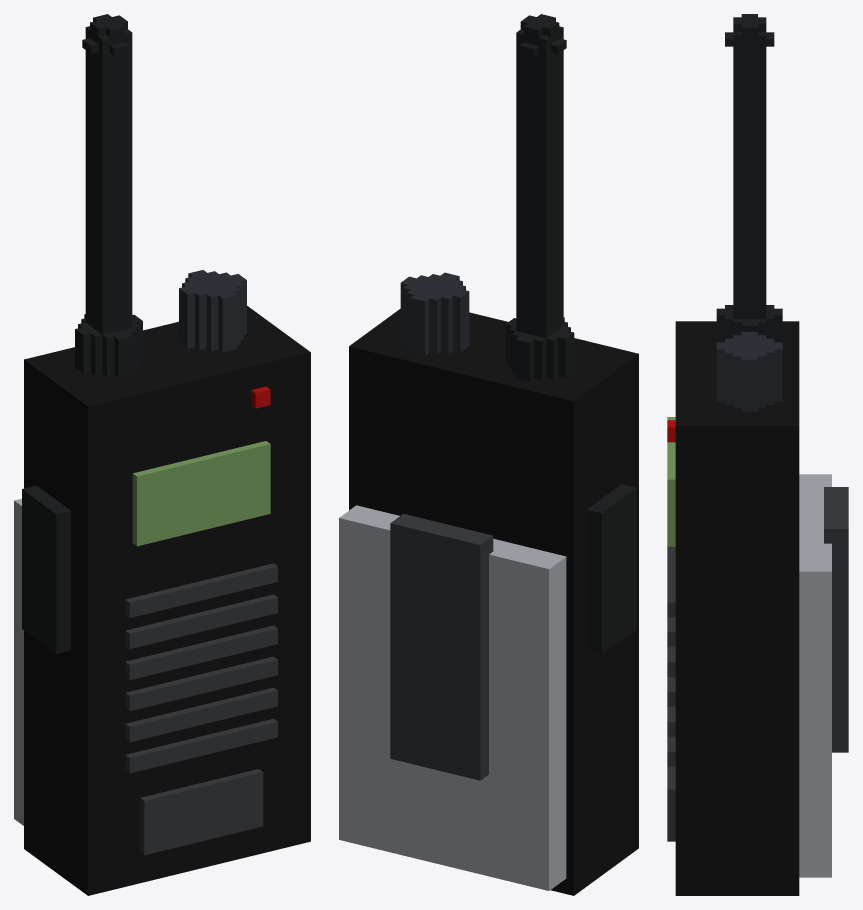
File: two_way_radio.glb
The picture shows the model from 3 angles, left to right: view 1: azimuth 30°, elevation 25°; view 2: azimuth 150°, elevation 25°; view 3: azimuth 270°, elevation 25°; orthographic projection. The views are drawn at different scales.
Parts seen in each view (by area): view 1: two_way_radio:compound; view 2: two_way_radio:compound; view 3: two_way_radio:compound.
Part boxes in pixels (<box>): two_way_radio:compound: <box>14,14,310,895</box>; two_way_radio:compound: <box>339,14,638,895</box>; two_way_radio:compound: <box>667,14,848,895</box>.
Bounding box in the file's own units: 0.064 × 0.214 × 0.044.
